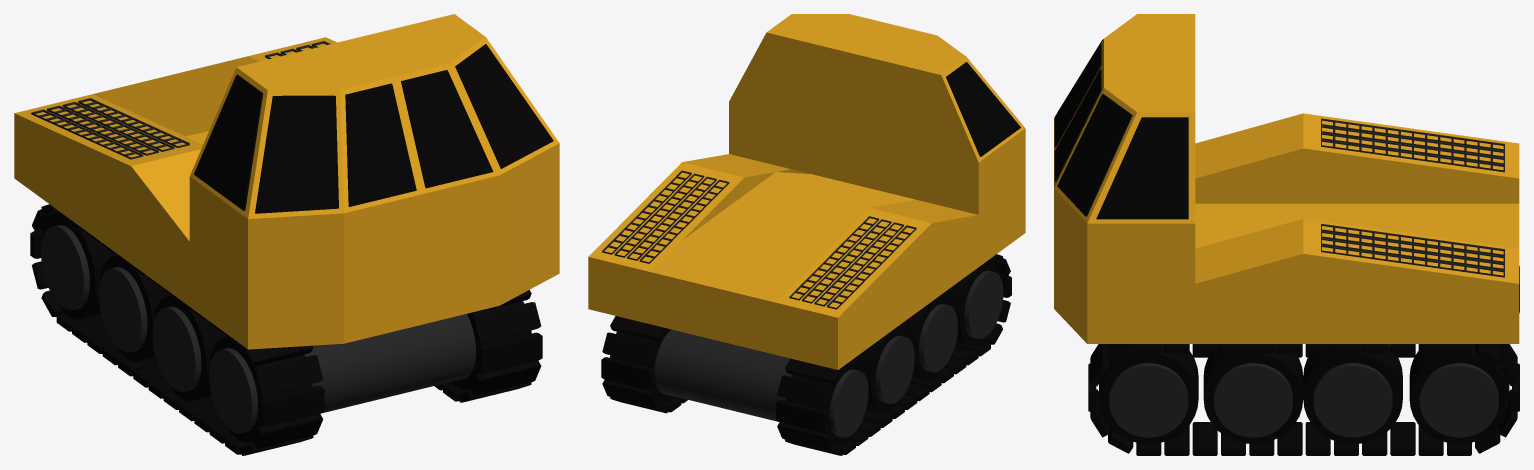
Rendered from Player.glb.
The picture shows the model from 3 angles, left to right: view 1: azimuth 30°, elevation 25°; view 2: azimuth 150°, elevation 25°; view 3: azimuth 270°, elevation 25°; orthographic projection. The views are drawn at different scales.
Visible parts, largest first — view 1: Cube, Cylinder.008, Cube.185, Cube.186, Cube.184, Cube.183, Cube.181, Cylinder.005, Cylinder.007, Cylinder.002, Cylinder.010, Cylinder.011 (+11 smaller); view 2: Cube, Cylinder.002, Cube.181, Cylinder.007, Cylinder.008, Cylinder.005, Cylinder.012, Cylinder.009, Cube.010, Cube.043, Cube.011, Cube.042 (+7 smaller); view 3: Cube, Cube.182, Cylinder.007, Cylinder.008, Cylinder.005, Cylinder.002, Cube.183, Cylinder.003, Cylinder.006, Cylinder.004, Cylinder.001, Cube.184 (+9 smaller).
Boxes of the visible parts, box(x1,y1,x2,y2) form: Cube: box(14, 14, 559, 349); Cylinder.008: box(209, 301, 531, 433); Cube.185: box(255, 95, 338, 213); Cube.186: box(345, 83, 416, 206); Cube.184: box(401, 70, 493, 188); Cube.183: box(455, 44, 553, 168); Cube.181: box(194, 74, 263, 210); Cylinder.005: box(152, 306, 201, 391); Cylinder.007: box(98, 267, 147, 352); Cylinder.002: box(41, 225, 89, 310); Cylinder.010: box(41, 214, 117, 319); Cylinder.011: box(153, 295, 226, 401); Cube: box(588, 14, 1025, 369); Cylinder.002: box(610, 329, 868, 437); Cube.181: box(946, 62, 1020, 156); Cylinder.007: box(875, 335, 914, 403); Cylinder.008: box(964, 270, 1003, 339); Cylinder.005: box(919, 304, 957, 372); Cylinder.012: box(854, 327, 914, 411); Cylinder.009: box(942, 262, 1002, 346); Cube.010: box(601, 357, 653, 389); Cube.043: box(777, 375, 833, 407); Cube.011: box(602, 332, 658, 365); Cube.042: box(776, 399, 827, 432); Cube: box(1054, 14, 1519, 343); Cube.182: box(1096, 117, 1188, 219); Cylinder.007: box(1313, 344, 1392, 437); Cylinder.008: box(1109, 363, 1188, 437); Cylinder.005: box(1213, 344, 1292, 437); Cylinder.002: box(1419, 363, 1498, 437); Cube.183: box(1057, 94, 1132, 216); Cylinder.003: box(1203, 344, 1303, 444); Cylinder.006: box(1303, 344, 1402, 443); Cylinder.004: box(1099, 344, 1198, 444); Cylinder.001: box(1409, 344, 1509, 444); Cube.184: box(1054, 69, 1101, 181).
Bounding box in the file's own units: 2 × 2.19 × 2.8.
